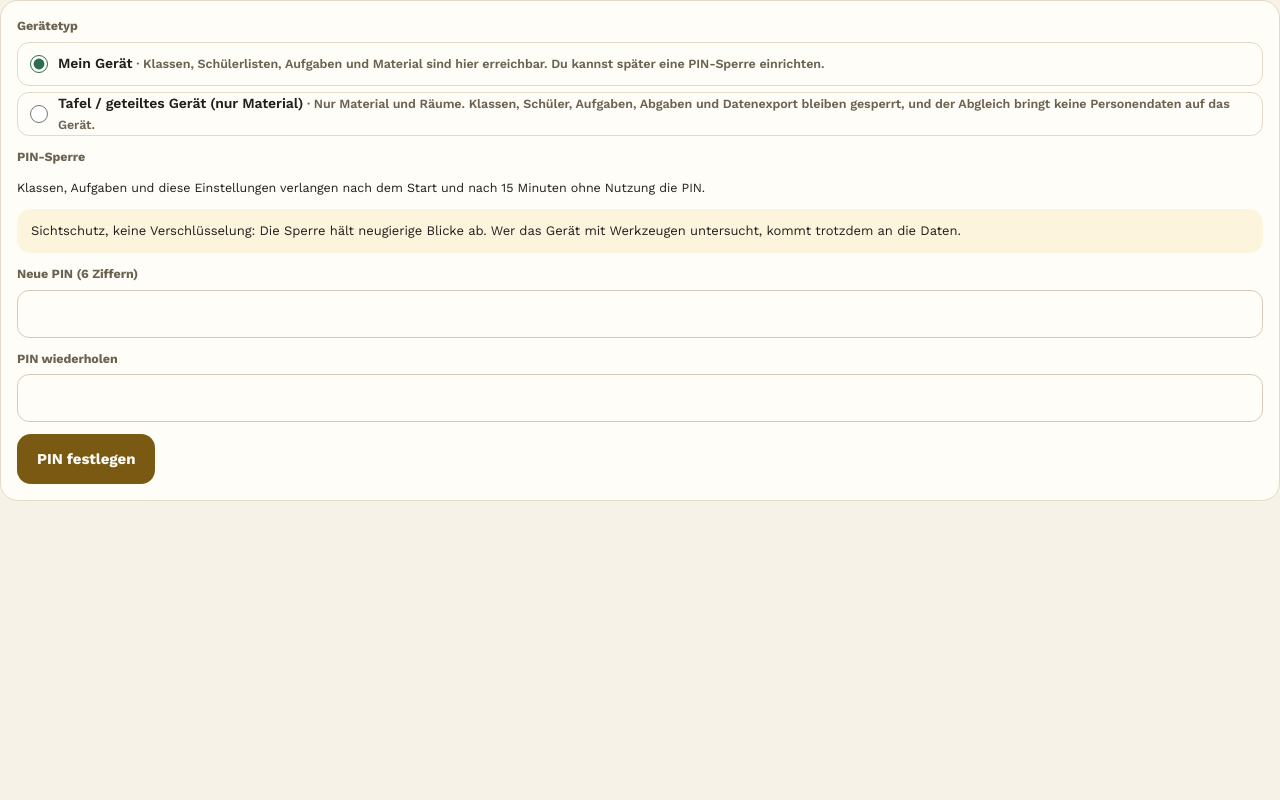
Test case: DeviceSettingsCard › legt eine PIN fest, wenn beide Eingaben übereinstimmen
Later steps or results of the test are not shown.
Expected: the text "Sichtschutz, keine Verschlüsselung" is shown, [31,223,961,238]
Type "482913" into the password field labelled "Neue PIN (6 Ziffern)" at (640, 314), box [17,290,1263,338]
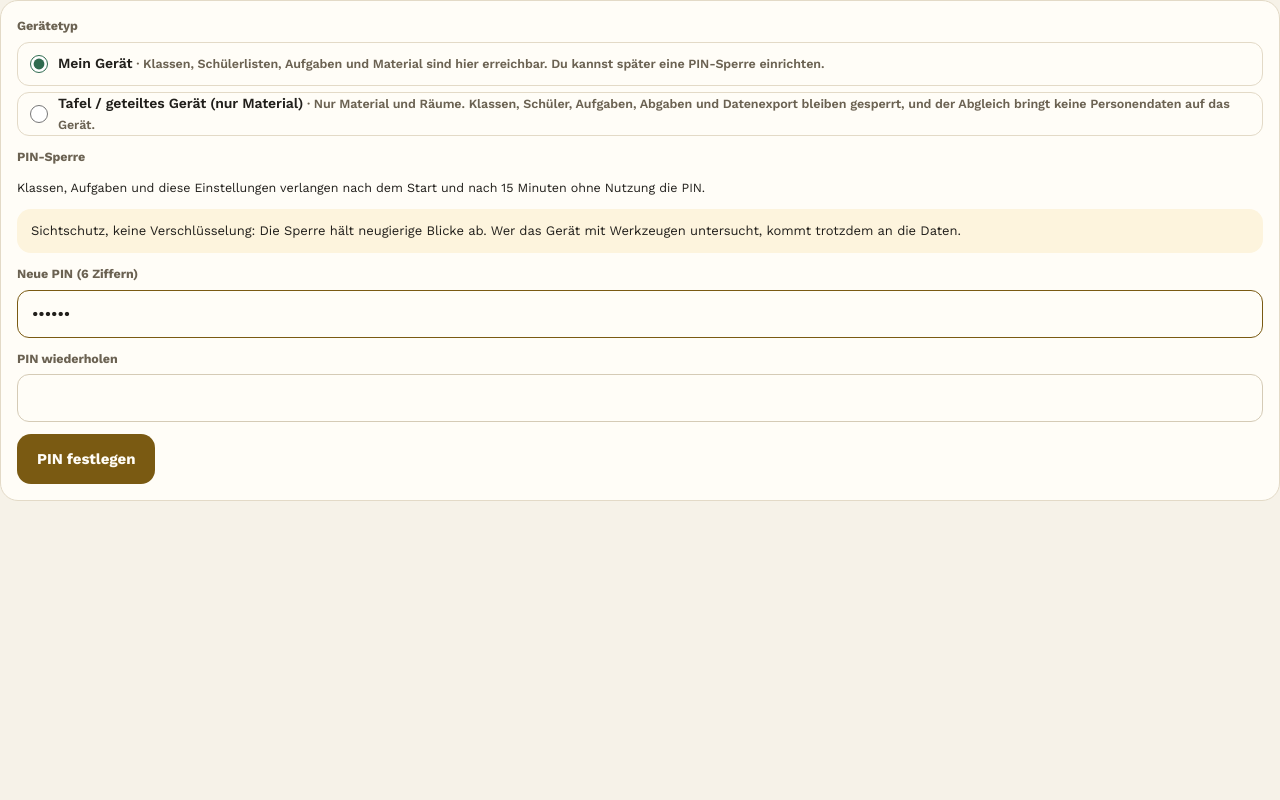
Type "482914" into the password field labelled "PIN wiederholen" at (640, 398), box [17,374,1263,422]
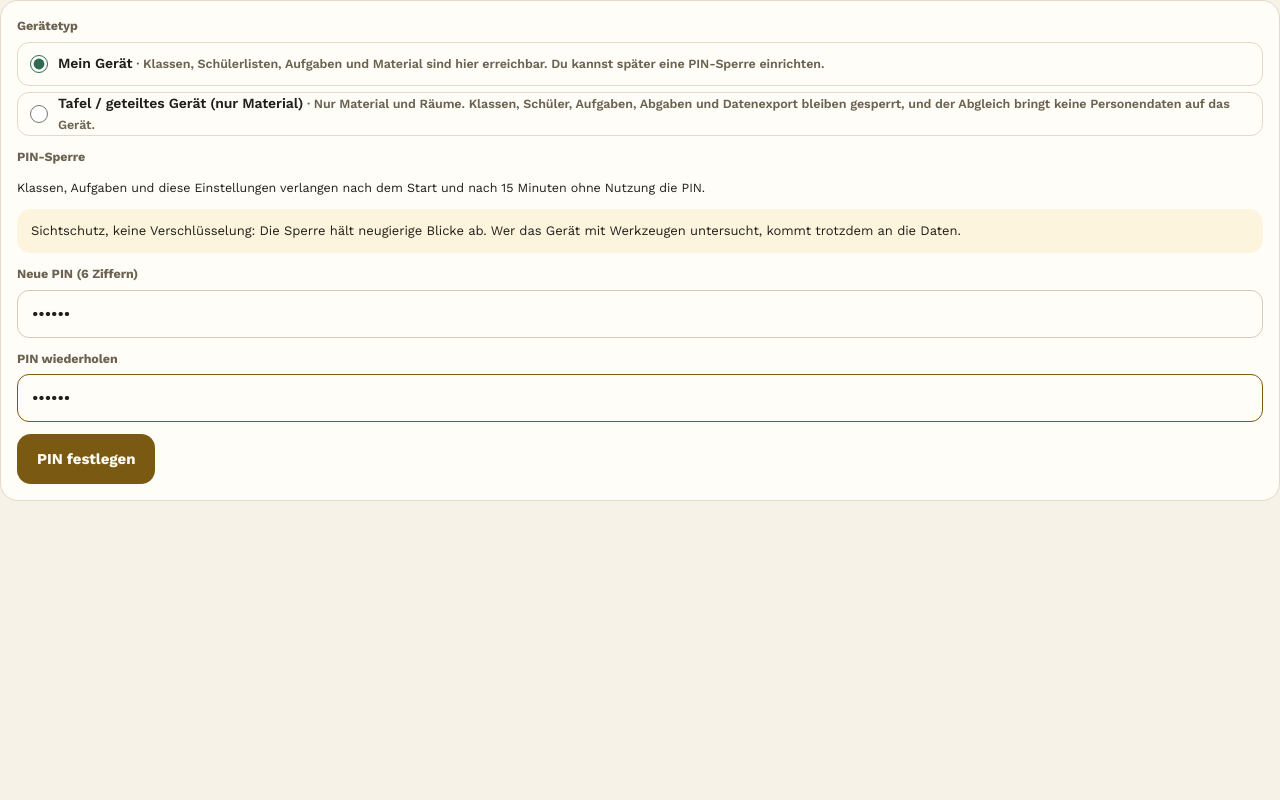
Click the button "PIN festlegen" at (86, 459), box [17,434,155,484]
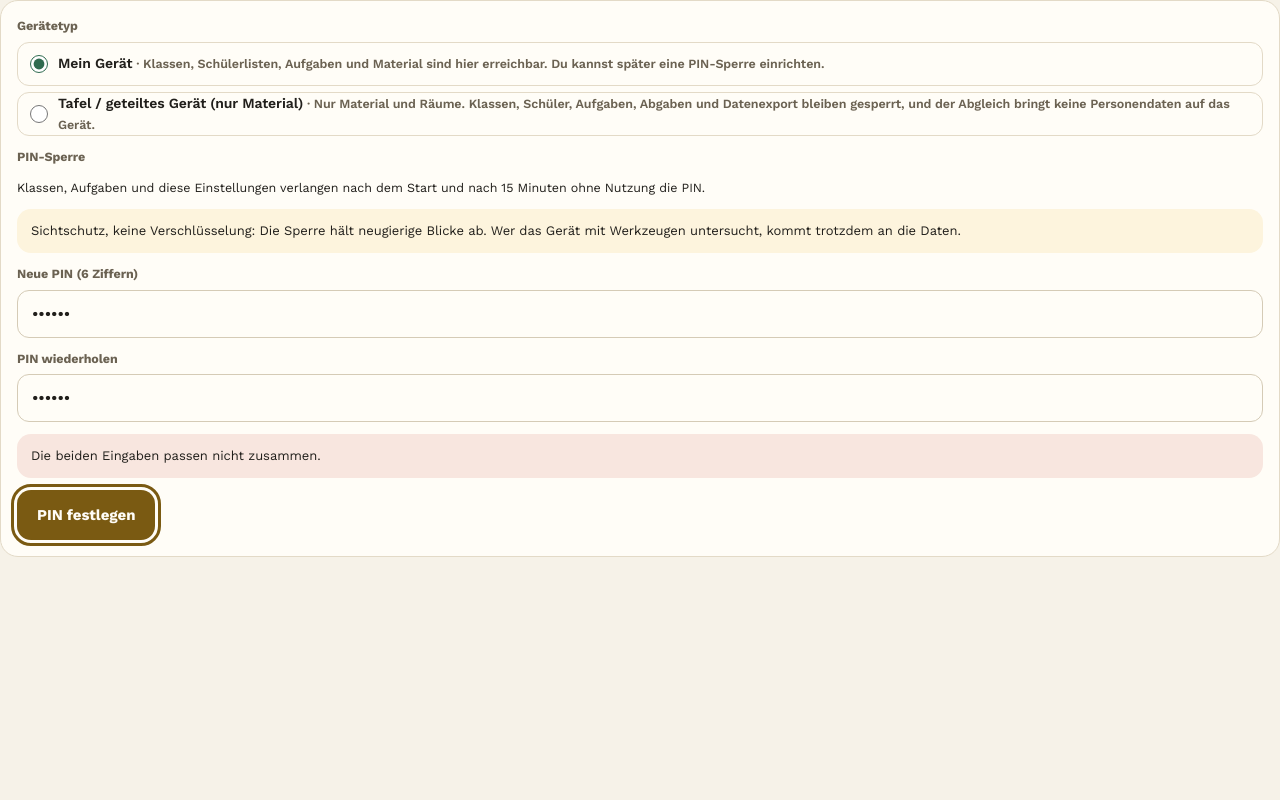
Expected: the message shows "passen nicht", [31,448,321,463]
